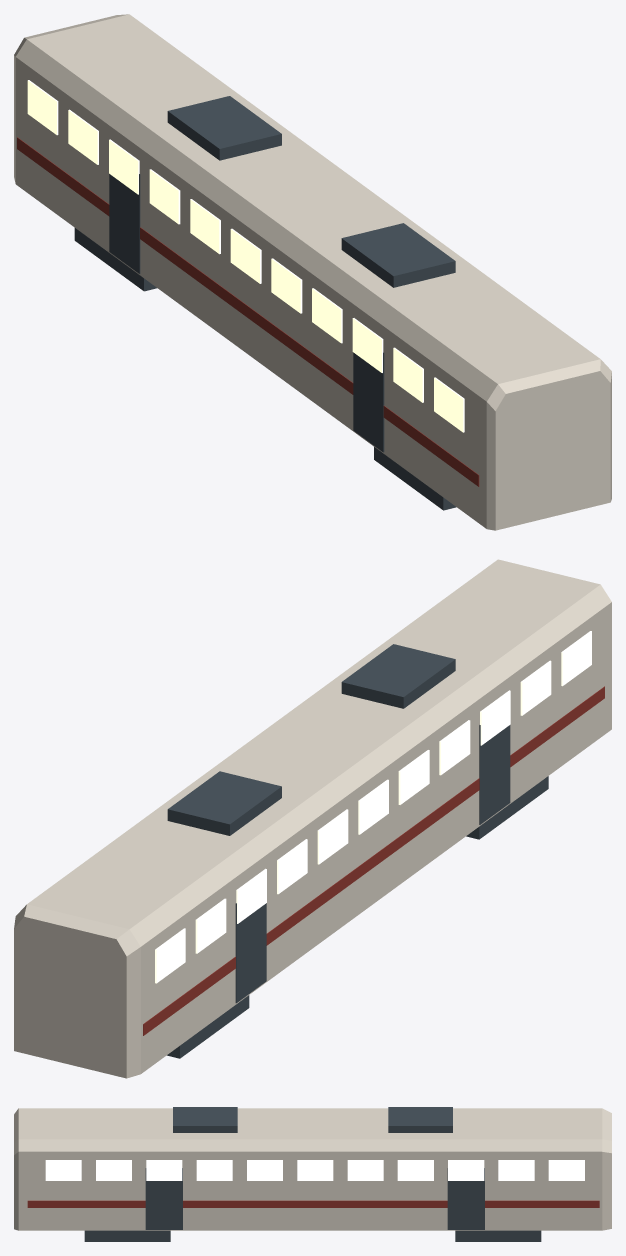
File: express-car.glb
3 views of the same model, one above another, from view 1: azimuth 30°, elevation 25°; view 2: azimuth 150°, elevation 25°; view 3: azimuth 270°, elevation 25° (orthographic). The views are drawn at different scales.
Size of the model in its own units: 3.01 by 3.94 by 19.5.
